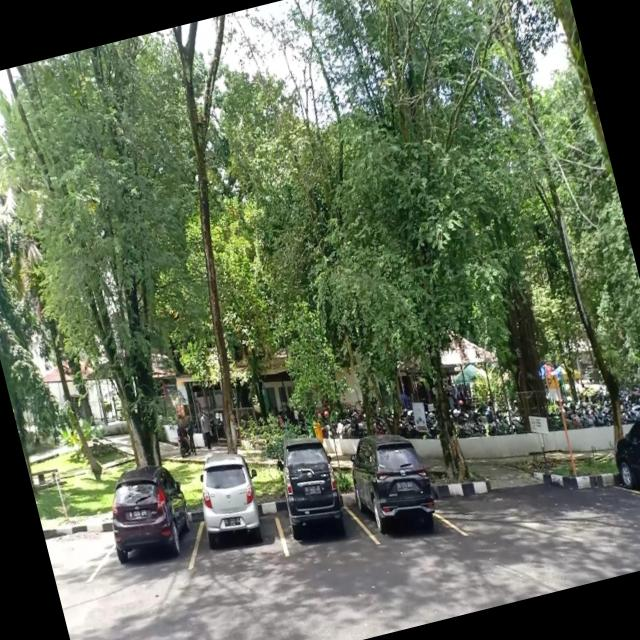car: (347, 449, 454, 548), (187, 466, 286, 569), (266, 459, 364, 558), (102, 488, 204, 583)
